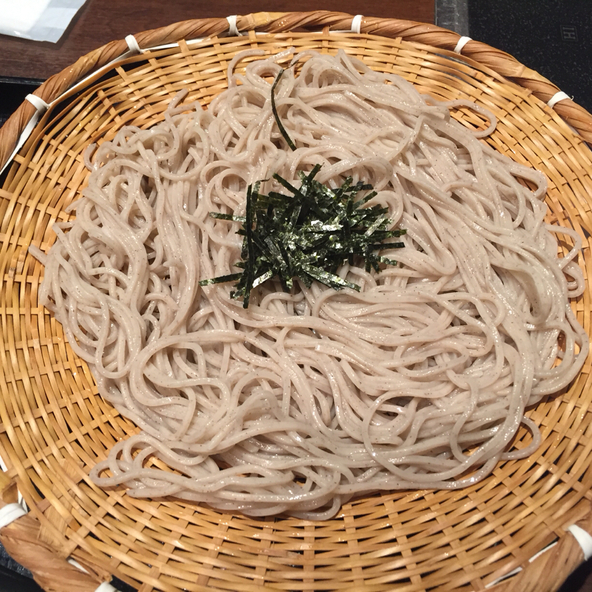Soba: (49, 51, 565, 518)
